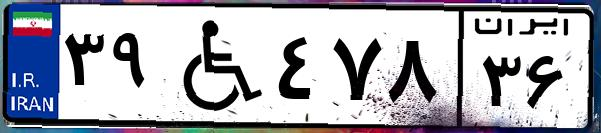3: (57, 26, 110, 100), (475, 38, 525, 113)
4: (270, 28, 330, 110)
6: (525, 38, 570, 115)
7: (330, 28, 385, 110)
8: (385, 28, 445, 110)
9: (110, 28, 158, 98)
ژ (معلولین و جانبازان): (158, 12, 270, 120)
